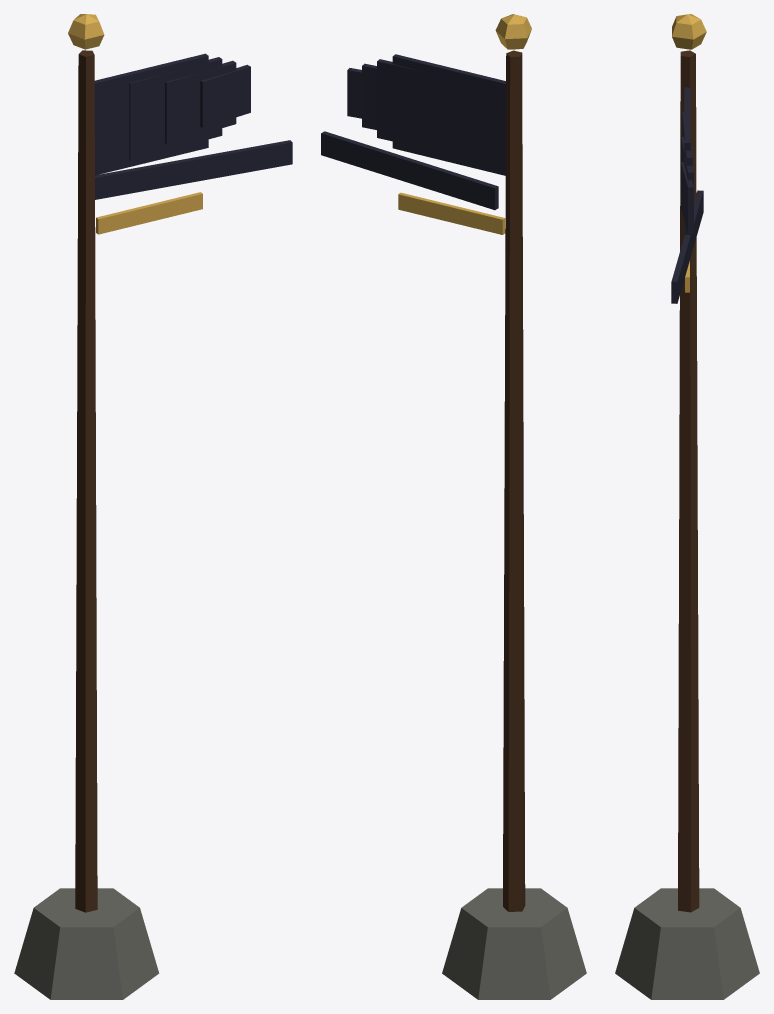
Rendered from prop_obangki_black.glb.
3 views of the same model, side by side, from view 1: azimuth 30°, elevation 25°; view 2: azimuth 150°, elevation 25°; view 3: azimuth 270°, elevation 25° (orthographic).
Parts seen in each view (by area): view 1: prop_obangki_black; view 2: prop_obangki_black; view 3: prop_obangki_black.
Boxes of the visible parts, left/top/right/bottom form: prop_obangki_black: left=14, top=14, right=292, bottom=999; prop_obangki_black: left=321, top=14, right=586, bottom=999; prop_obangki_black: left=615, top=14, right=759, bottom=999.
Bounding box in the file's own units: 1.21 × 4.38 × 0.6.
